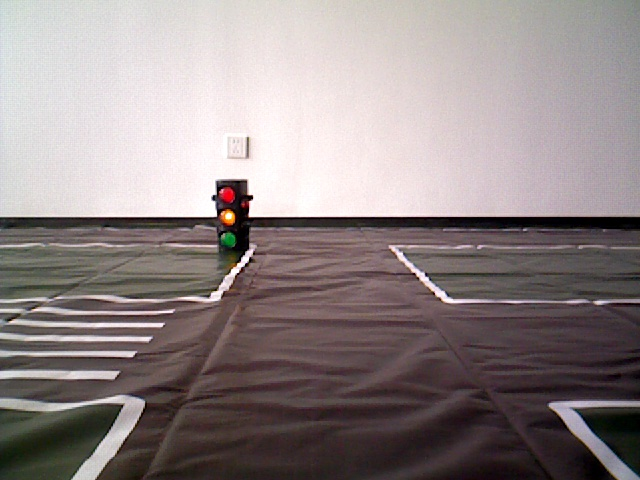yellow: (210, 177, 247, 250)
